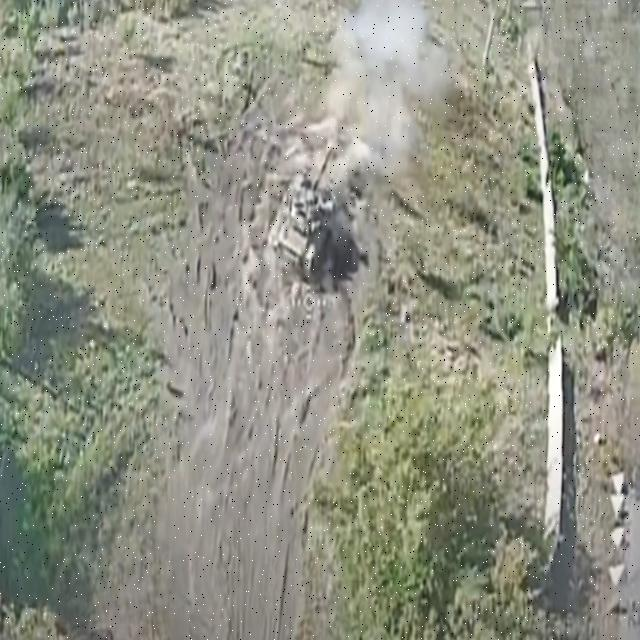MBT: (266, 144, 343, 281)
